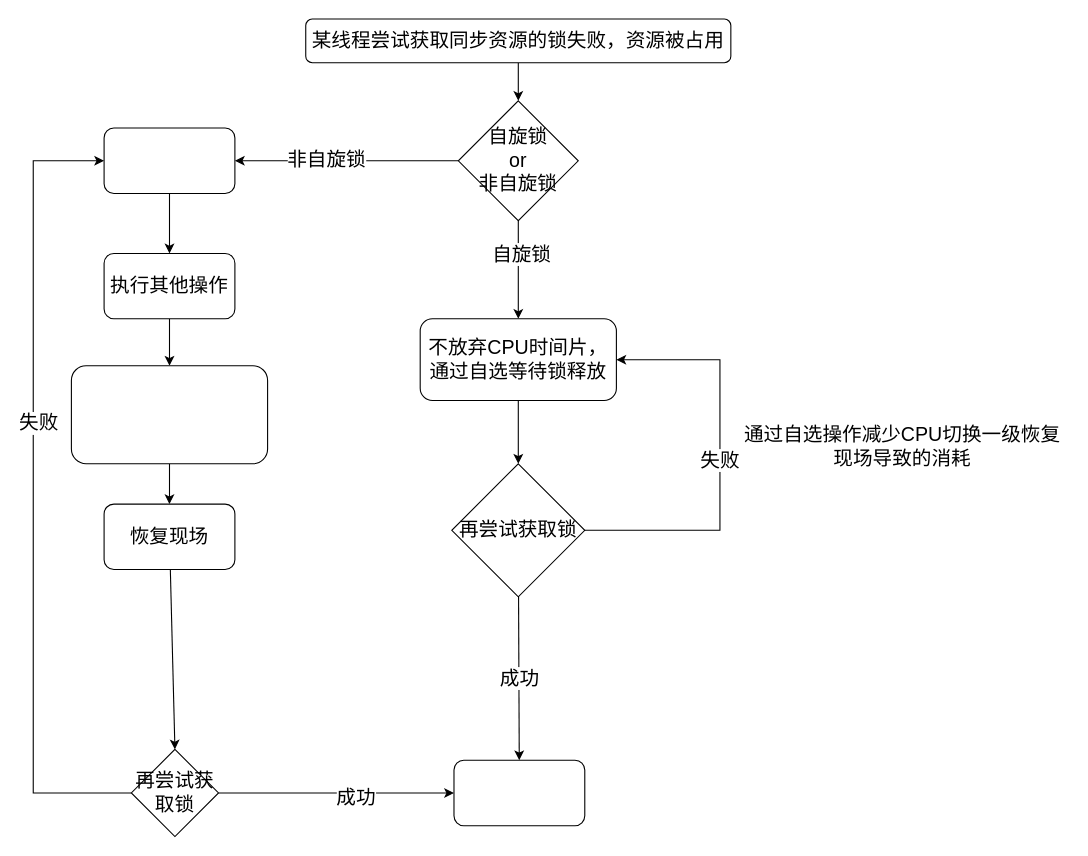
The diagram is 1088 pixels wide and 856 high, and some of its shapes have lost their labels. Here are the shapes that lost their labels. From the top down, the centre of each, then its label:
the point at 169,160: CPU切换状态，使当前线程休眠
the point at 169,414: 占用同步资源的线程（即上述的其他线程完成了工作）释放了锁
the point at 519,792: 获取同步资源的锁
